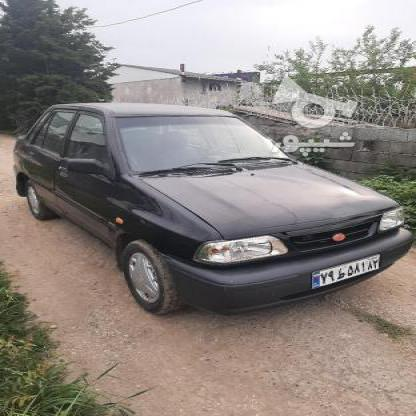licence: (307, 252, 380, 289)
